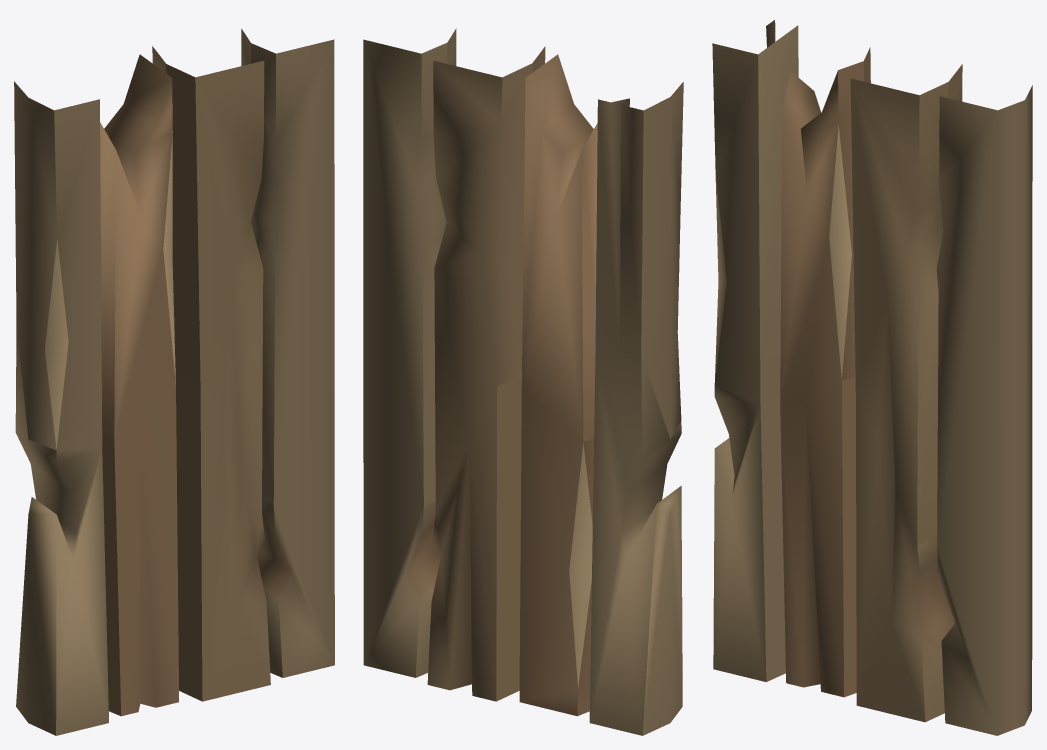
Rendered from rpgpp_av_wall_02_1.5x3_a.gltf.
The picture shows the model from 3 angles, left to right: view 1: azimuth 30°, elevation 25°; view 2: azimuth 150°, elevation 25°; view 3: azimuth 330°, elevation 25°; orthographic projection.
Visible parts, largest first — view 1: rpgpp_av_wall_02_1.5x3_a; view 2: rpgpp_av_wall_02_1.5x3_a; view 3: rpgpp_av_wall_02_1.5x3_a.
Boxes of the visible parts, <box> form: rpgpp_av_wall_02_1.5x3_a: <box>14,28,334,735</box>; rpgpp_av_wall_02_1.5x3_a: <box>363,28,683,735</box>; rpgpp_av_wall_02_1.5x3_a: <box>712,20,1032,735</box>.
Size of the model in its own units: 0.015 by 0.03 by 0.00378.
Materials: 1 (1 with a texture image).
